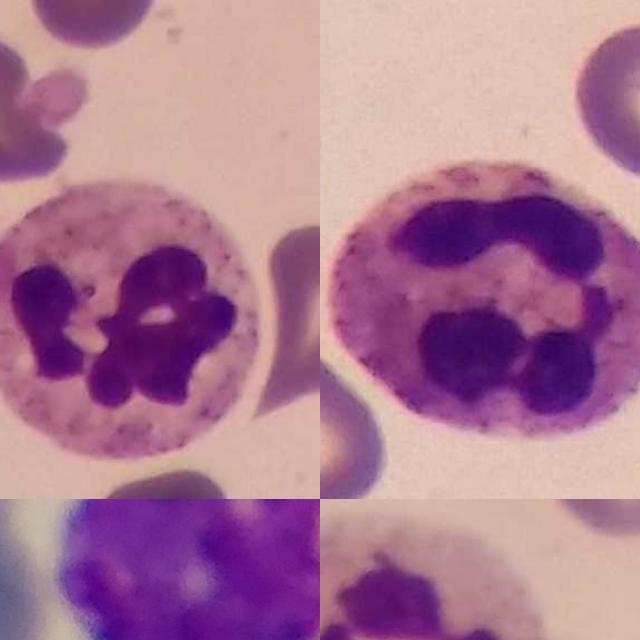Basophil: (58, 499, 320, 640)
Neutrophil: (329, 158, 640, 441), (0, 181, 263, 458), (320, 512, 541, 640)
